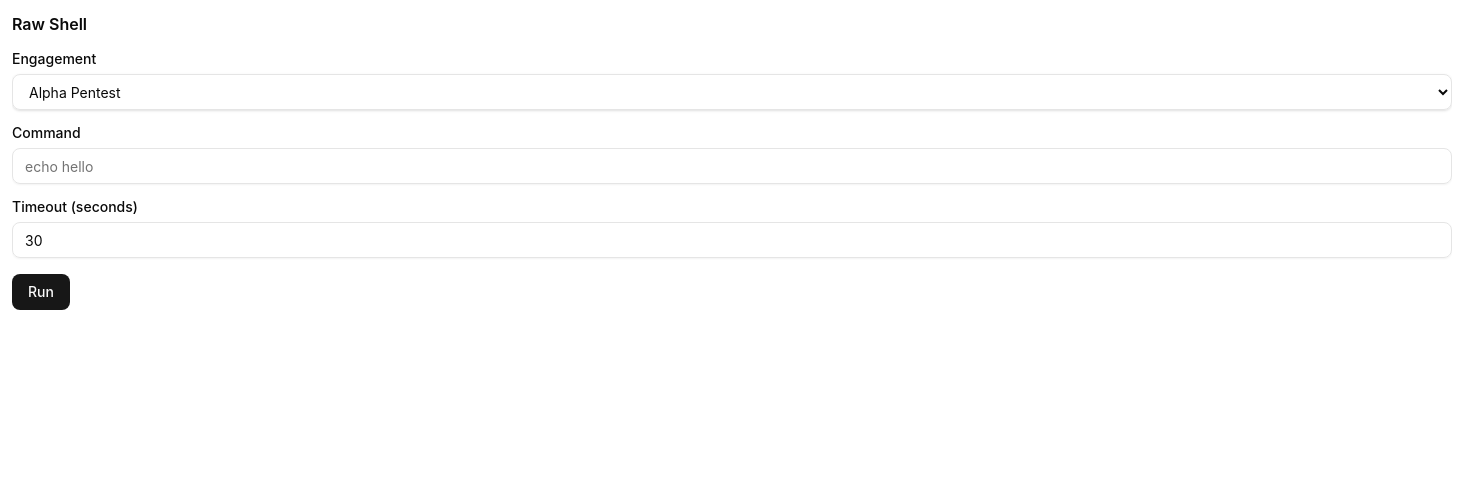
RawShellForm › result rendering › renders exit_code, stdout and stderr pre blocks
In the field labelled "Command": (732, 166) [12,148,1452,184], type "bad-cmd"
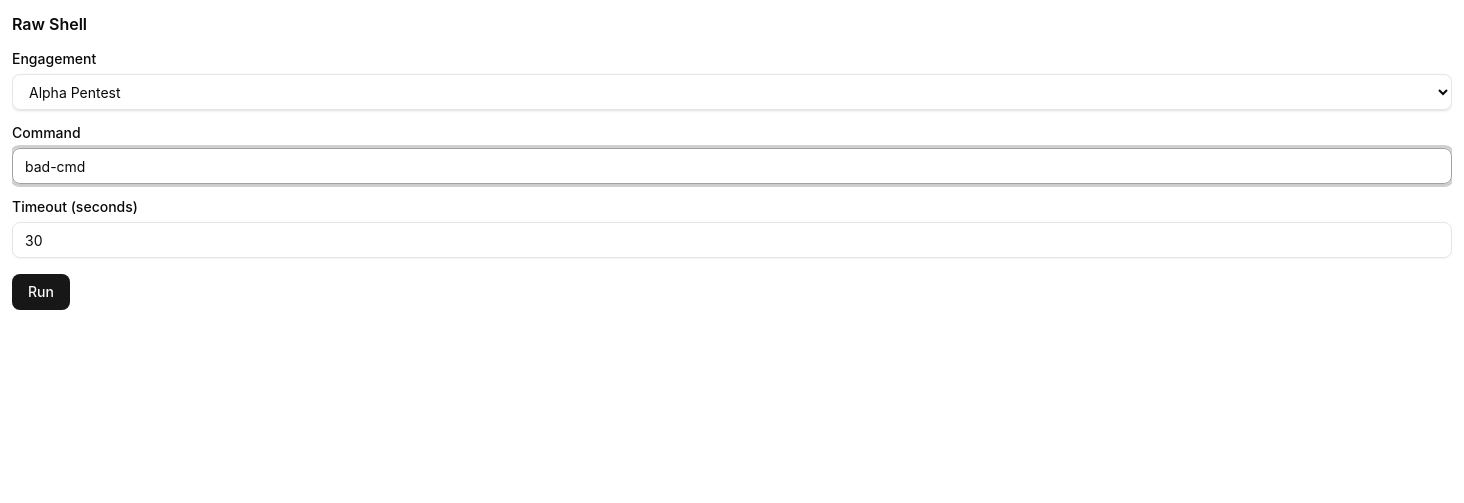
Click the button "Run": (41, 292) [12,274,70,310]
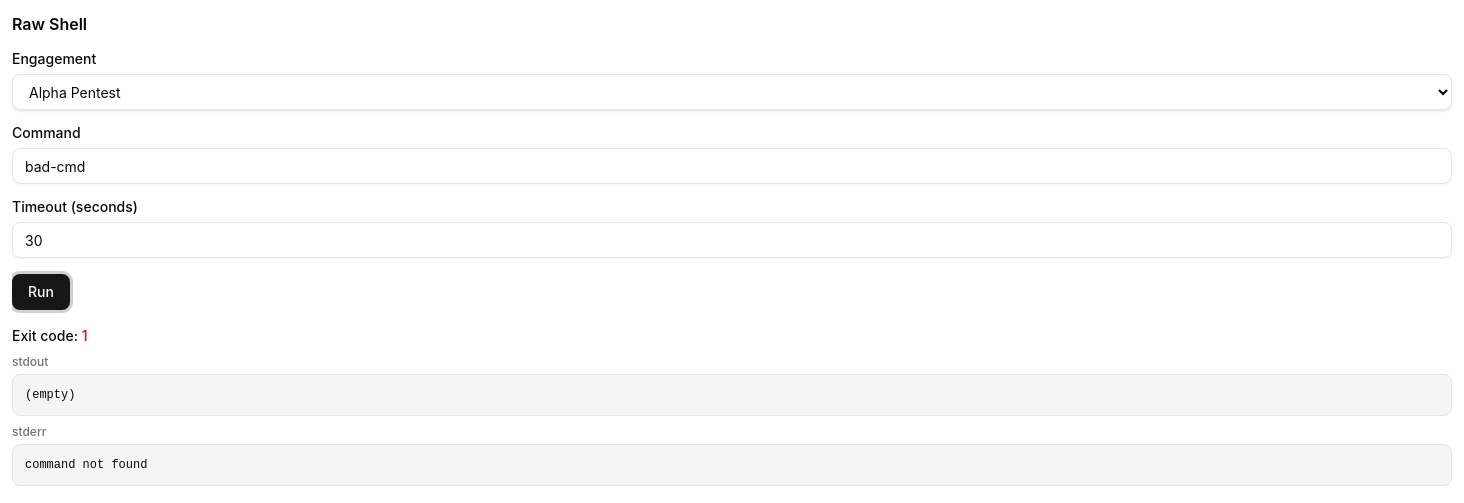
Now the text "1" is shown, box [82,327,88,344]
Now the text "command not found" is shown, box [12,444,1452,486]
